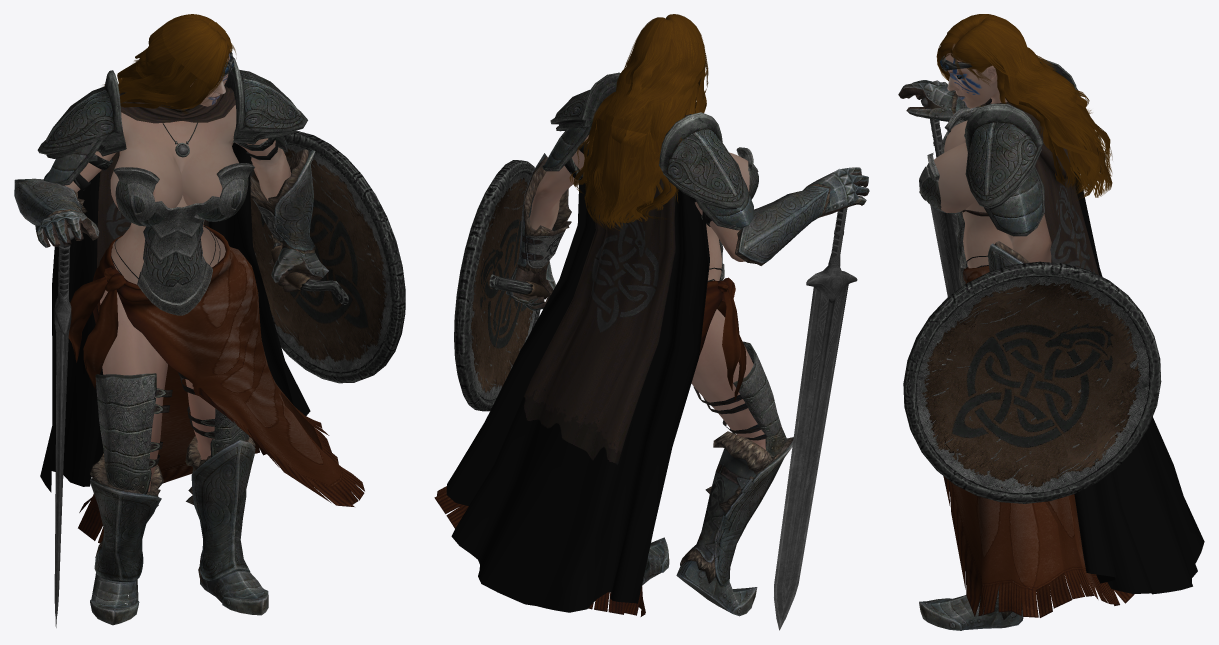
The picture shows the model from 3 angles, left to right: view 1: azimuth 30°, elevation 25°; view 2: azimuth 150°, elevation 25°; view 3: azimuth 270°, elevation 25°; orthographic projection. The views are drawn at different scales.
Visible parts, largest first — view 1: Model003_25_Mesh1_1_0_0_root_root_Model003_Material001_0, Model002_23_body.body_2_0_0, Model002_23_+SovngardeSteelBoots.Boots_1_0_0_Model002_Materi, Model002_23_+SovngardeSteelCloak.cloak_1_0_0_Model002_Materi, Model001_40_+Skirt.1!2nPart!_10_0_0.001_Model001_Material002, Model005_23_+SovngardeSteelChest.Chest_1_0_0_Model005_Materi, Model002_23_+SovngardeSteelGloves.gloves_1_0_0_Model002_Mate, Model001_40_+Skirt.1!!3nPart!_10_0_0.001_Model001_Material00, Model002_23_+SovngardeSteelShoulderTop.ShoulderTop_1_0_0_Mod, Model002_25_+Hair long.Black_1_0_0, Model002_23_+SovngardeSteelLegsArmor.LegsArmor_1_0_0_Model00, Model001_40_+Skirt.11nPart!_10_0_0.001_Model001_Material001_ (+4 smaller); view 2: Model002_23_+SovngardeSteelCloak.cloak_1_0_0_Model002_Materi, Model002_25_+Hair long.Black_1_0_0, Model003_25_Mesh1_1_0_0_root_root_Model003_Material001_0, Model004_25_Mesh1_1_0_0_root_root_Model004_Material001_0, Model002_23_+SovngardeSteelBoots.Boots_1_0_0_Model002_Materi, Model002_23_+SovngardeSteelGloves.gloves_1_0_0_Model002_Mate, Model002_23_+SovngardeSteelShoulderTop.ShoulderTop_1_0_0_Mod, Model002_23_body.body_2_0_0, Model002_23_+SovngardeSteelLegsArmor.LegsArmor_1_0_0_Model00, Model002_23_+SovngardeSteelShoulder.ShoulderBottom_1_0_0_Mod, Model001_40_+Skirt.1!!!!5nPart!_10_0_0.001_Model001_Material, Model001_40_+Skirt.11nPart!_10_0_0.001_Model001_Material001_ (+2 smaller); view 3: Model003_25_Mesh1_1_0_0_root_root_Model003_Material001_0, Model002_23_+SovngardeSteelCloak.cloak_1_0_0_Model002_Materi, Model002_25_+Hair long.Black_1_0_0, Model001_40_+Skirt.1!2nPart!_10_0_0.001_Model001_Material002, Model002_23_+SovngardeSteelShoulderTop.ShoulderTop_1_0_0_Mod, Model002_23_body.body_2_0_0, Model001_40_+Skirt.11nPart!_10_0_0.001_Model001_Material001_, Model002_23_+SovngardeSteelGloves.gloves_1_0_0_Model002_Mate, Model002_23_+SovngardeSteelBoots.Boots_1_0_0_Model002_Materi, Model002_23_+SovngardeSteelShoulder.ShoulderBottom_1_0_0_Mod, Model004_25_Mesh1_1_0_0_root_root_Model004_Material001_0, Model005_23_+SovngardeSteelChest.Chest_1_0_0_Model005_Materi (+3 smaller).
Boxes of the visible parts, x1,y1,x2,y2 form: Model003_25_Mesh1_1_0_0_root_root_Model003_Material001_0: (250, 131, 405, 383); Model002_23_body.body_2_0_0: (65, 105, 291, 491); Model002_23_+SovngardeSteelBoots.Boots_1_0_0_Model002_Materi: (90, 435, 268, 625); Model002_23_+SovngardeSteelCloak.cloak_1_0_0_Model002_Materi: (40, 86, 310, 492); Model001_40_+Skirt.1!2nPart!_10_0_0.001_Model001_Material002: (93, 225, 364, 506); Model005_23_+SovngardeSteelChest.Chest_1_0_0_Model005_Materi: (113, 163, 254, 315); Model002_23_+SovngardeSteelGloves.gloves_1_0_0_Model002_Mate: (14, 149, 328, 292); Model001_40_+Skirt.1!!3nPart!_10_0_0.001_Model001_Material00: (152, 274, 308, 434); Model002_23_+SovngardeSteelShoulderTop.ShoulderTop_1_0_0_Mod: (37, 58, 307, 158); Model002_25_+Hair long.Black_1_0_0: (103, 14, 236, 114); Model002_23_+SovngardeSteelLegsArmor.LegsArmor_1_0_0_Model00: (95, 372, 249, 494); Model001_40_+Skirt.11nPart!_10_0_0.001_Model001_Material001_: (78, 365, 338, 543); Model002_23_+SovngardeSteelCloak.cloak_1_0_0_Model002_Materi: (446, 114, 709, 612); Model002_25_+Hair long.Black_1_0_0: (569, 14, 708, 230); Model003_25_Mesh1_1_0_0_root_root_Model003_Material001_0: (454, 160, 548, 411); Model004_25_Mesh1_1_0_0_root_root_Model004_Material001_0: (774, 207, 857, 630); Model002_23_+SovngardeSteelBoots.Boots_1_0_0_Model002_Materi: (642, 431, 793, 616); Model002_23_+SovngardeSteelGloves.gloves_1_0_0_Model002_Mate: (506, 153, 869, 310); Model002_23_+SovngardeSteelShoulderTop.ShoulderTop_1_0_0_Mod: (550, 72, 745, 209); Model002_23_body.body_2_0_0: (529, 135, 765, 449); Model002_23_+SovngardeSteelLegsArmor.LegsArmor_1_0_0_Model00: (693, 341, 787, 457); Model002_23_+SovngardeSteelShoulder.ShoulderBottom_1_0_0_Mod: (542, 127, 754, 230); Model001_40_+Skirt.1!!!!5nPart!_10_0_0.001_Model001_Material: (722, 291, 746, 401); Model001_40_+Skirt.11nPart!_10_0_0.001_Model001_Material001_: (434, 486, 645, 616); Model003_25_Mesh1_1_0_0_root_root_Model003_Material001_0: (903, 261, 1161, 503); Model002_23_+SovngardeSteelCloak.cloak_1_0_0_Model002_Materi: (980, 98, 1204, 594); Model002_25_+Hair long.Black_1_0_0: (936, 14, 1112, 200); Model001_40_+Skirt.1!2nPart!_10_0_0.001_Model001_Material002: (943, 265, 1063, 617); Model002_23_+SovngardeSteelShoulderTop.ShoulderTop_1_0_0_Mod: (965, 59, 1080, 209); Model002_23_body.body_2_0_0: (934, 120, 1051, 268); Model001_40_+Skirt.11nPart!_10_0_0.001_Model001_Material001_: (1036, 494, 1134, 617); Model002_23_+SovngardeSteelGloves.gloves_1_0_0_Model002_Mate: (898, 80, 1029, 271); Model002_23_+SovngardeSteelBoots.Boots_1_0_0_Model002_Materi: (919, 585, 1023, 630); Model002_23_+SovngardeSteelShoulder.ShoulderBottom_1_0_0_Mod: (984, 166, 1044, 236); Model004_25_Mesh1_1_0_0_root_root_Model004_Material001_0: (919, 97, 961, 296); Model005_23_+SovngardeSteelChest.Chest_1_0_0_Model005_Materi: (919, 107, 988, 286).
Size of the model in its own units: 216 by 339 by 159.
Materials: 26 (25 with a texture image).
